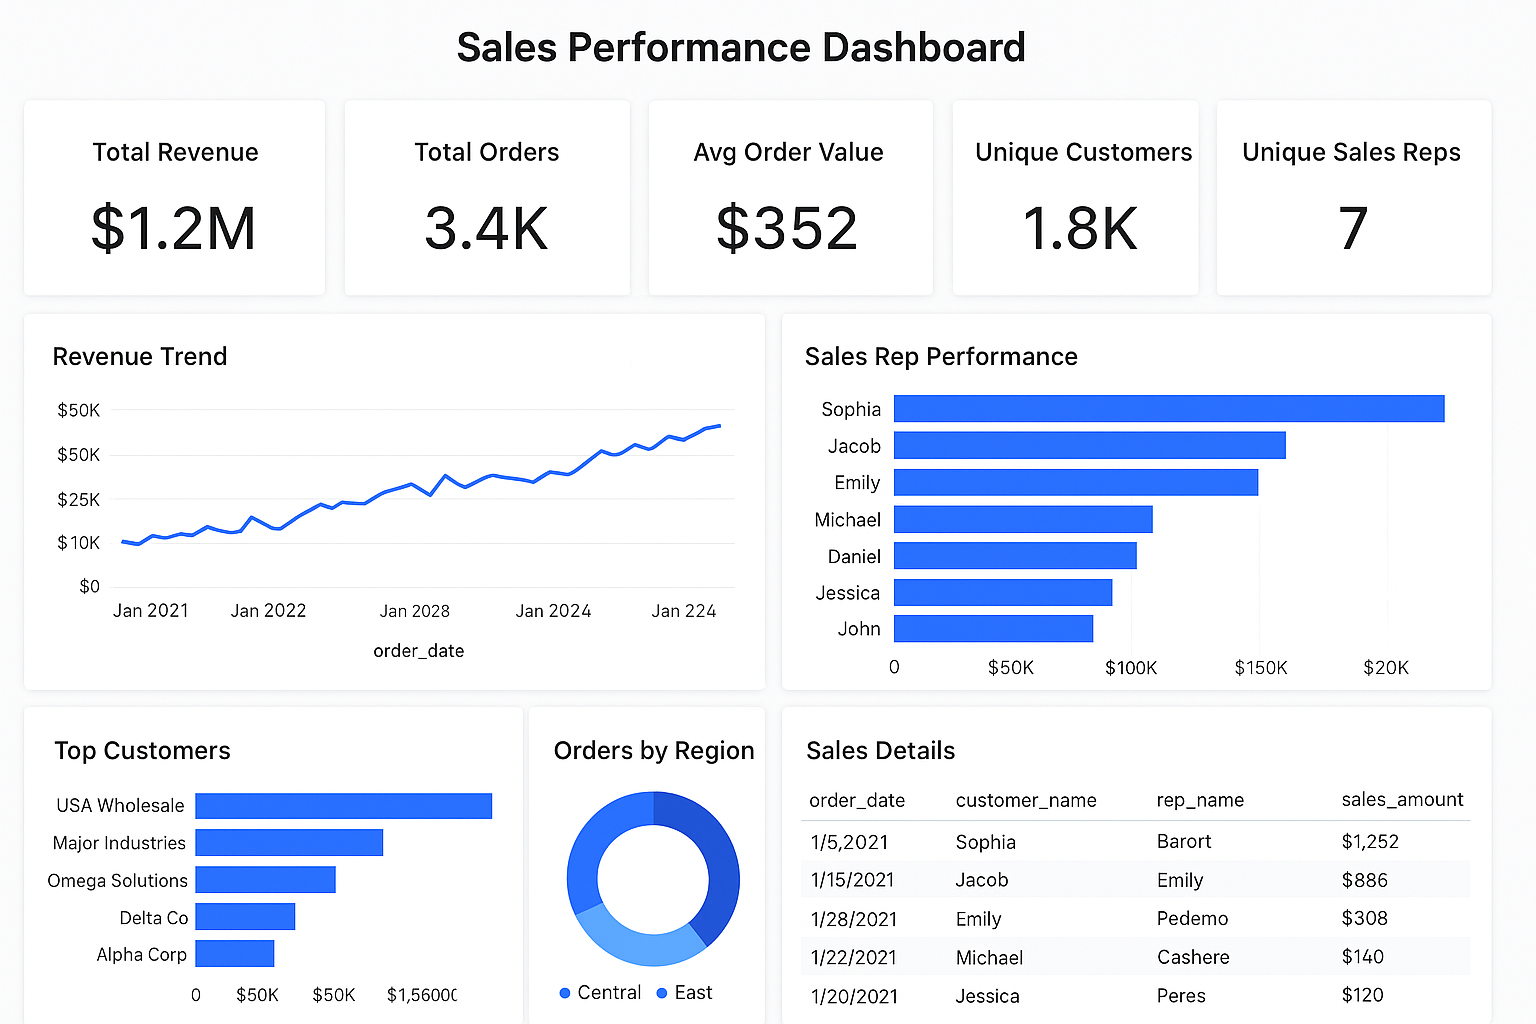

What the dashboard file says about the page in this screenshot:
{"tool":"powerbi","page":{"name":"Page 1","canvas":[1280,720],"ordinal":0},"visuals":[{"type":"cardVisual","fields":{"Data":["cleaned_sales_data.Total Revenue"]},"box":[44.7,75.9,226.6,126.4],"z":0},{"type":"cardVisual","fields":{"Data":["cleaned_sales_data.Total Orders"]},"box":[286.9,75.9,226.6,126.4],"z":1000},{"type":"cardVisual","fields":{"Data":["cleaned_sales_data.Avg Order Value"]},"box":[526.2,75.9,226.6,126.4],"z":2000},{"type":"cardVisual","fields":{"Data":["cleaned_sales_data.Unique Customers"]},"box":[769.4,75.9,226.6,126.4],"z":3000},{"type":"cardVisual","fields":{"Data":["cleaned_sales_data.Unique Sales Reps"]},"box":[1012,76.1,227.2,126.1],"z":4000},{"type":"textbox","box":[10.9,20.7,1258.7,42.4],"z":5000},{"type":"lineChart","title":"Revenue Trend","fields":{"Category":["cleaned_sales_data.order_date.Variation.Date Hierarchy.Year","cleaned_sales_data.order_date.Variation.Date Hierarchy.Quarter","cleaned_sales_data.order_date.Variation.Date Hierarchy.Month","cleaned_sales_data.order_date.Variation.Date Hierarchy.Day"],"Y":["cleaned_sales_data.Total Revenue"]},"box":[51.1,209.8,609.8,258.7],"z":6000},{"type":"clusteredBarChart","title":"Sales Rep Performance","fields":{"Y":["cleaned_sales_data.Total Revenue"],"Category":["cleaned_sales_data.rep_name"]},"box":[684.8,209.8,554.3,258.7],"z":6001},{"type":"clusteredColumnChart","title":"Top Customers","fields":{"Y":["cleaned_sales_data.Total Revenue"],"Category":["cleaned_sales_data.customer_name"]},"box":[51.1,479.3,356.5,240.2],"z":6002},{"type":"donutChart","title":"Orders by Region","fields":{"Category":["cleaned_sales_data.region"],"Y":["cleaned_sales_data.Total Orders"]},"box":[425,479.3,235.9,239.1],"z":6003},{"type":"pivotTable","fields":{"Rows":["cleaned_sales_data.customer_name"],"Values":["cleaned_sales_data.Total Orders","Min(cleaned_sales_data.region)","cleaned_sales_data.Total Revenue","Sum(cleaned_sales_data.sales_amount)"]},"box":[684.8,479.3,553.3,239.1],"z":6004}]}

Visuals, with their boxes on the page's 1280x720 design canvas (x1, y1, x2, y2). These are canvas units, not pixel positions in the 1536x1024 screenshot, which may show the page scaled, cropped or inside an application window:
cardVisual - cleaned_sales_data.Total Revenue: locate(45, 76, 271, 202)
cardVisual - cleaned_sales_data.Total Orders: locate(287, 76, 514, 202)
cardVisual - cleaned_sales_data.Avg Order Value: locate(526, 76, 753, 202)
cardVisual - cleaned_sales_data.Unique Customers: locate(769, 76, 996, 202)
cardVisual - cleaned_sales_data.Unique Sales Reps: locate(1012, 76, 1239, 202)
textbox: locate(11, 21, 1270, 63)
"Revenue Trend" lineChart: locate(51, 210, 661, 468)
"Sales Rep Performance" clusteredBarChart: locate(685, 210, 1239, 468)
"Top Customers" clusteredColumnChart: locate(51, 479, 408, 720)
"Orders by Region" donutChart: locate(425, 479, 661, 718)
pivotTable - cleaned_sales_data.customer_name x cleaned_sales_data.Total Orders: locate(685, 479, 1238, 718)
